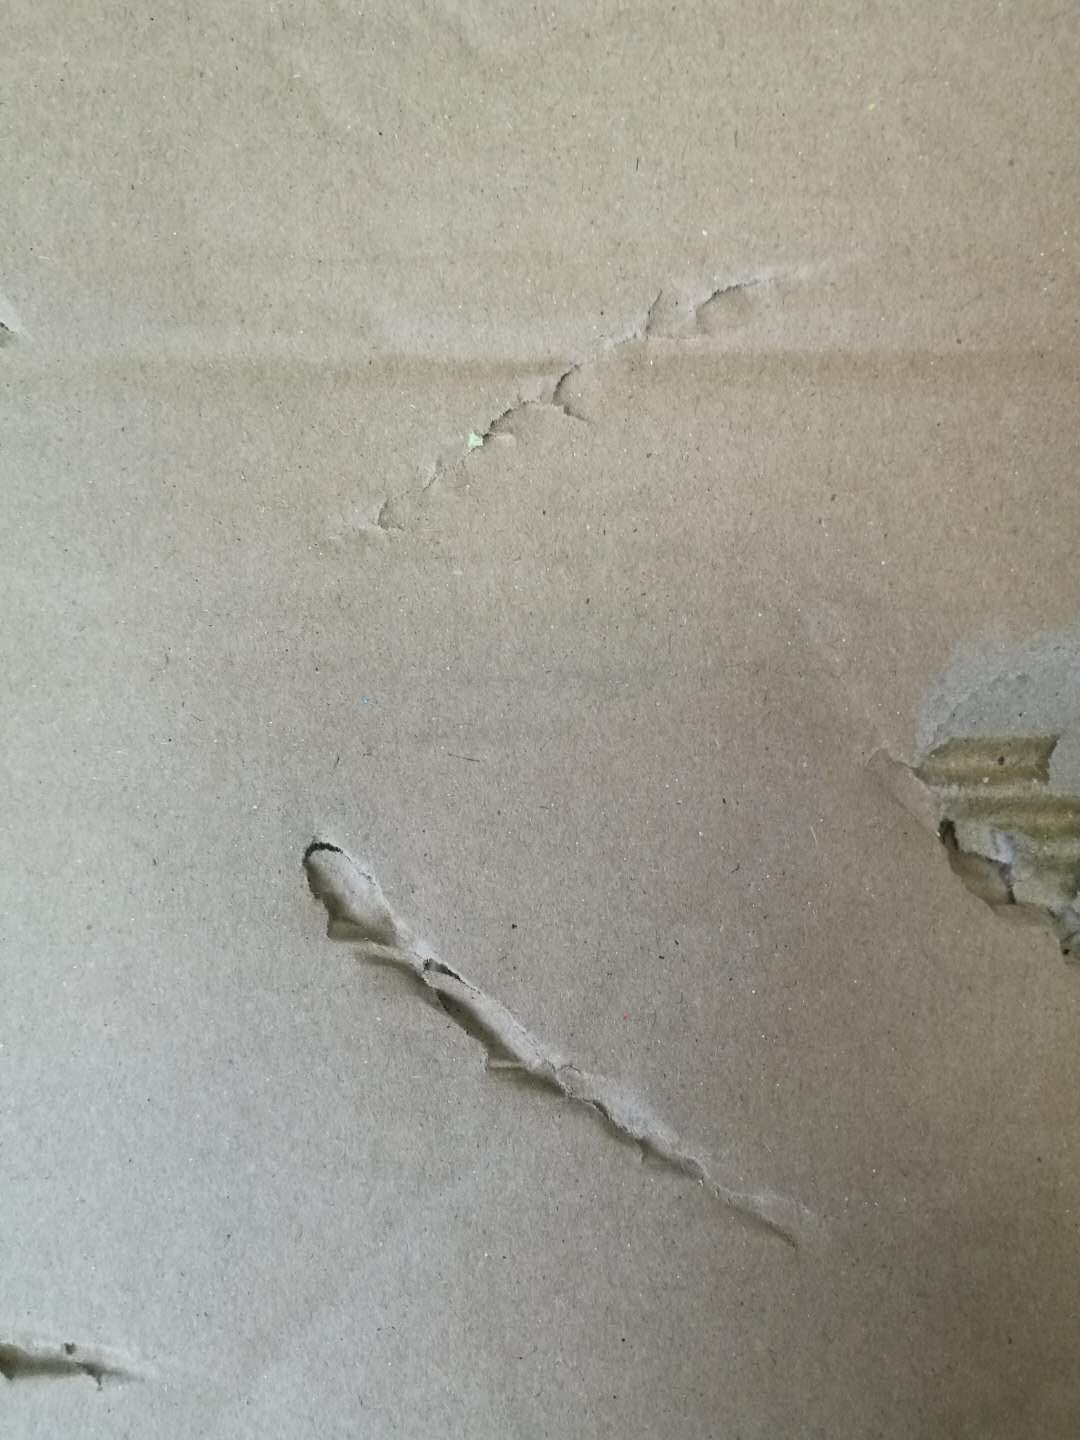defect: (269, 796, 842, 1274), (286, 242, 897, 595), (1, 281, 1080, 446), (871, 610, 1080, 998), (2, 1295, 177, 1413)
